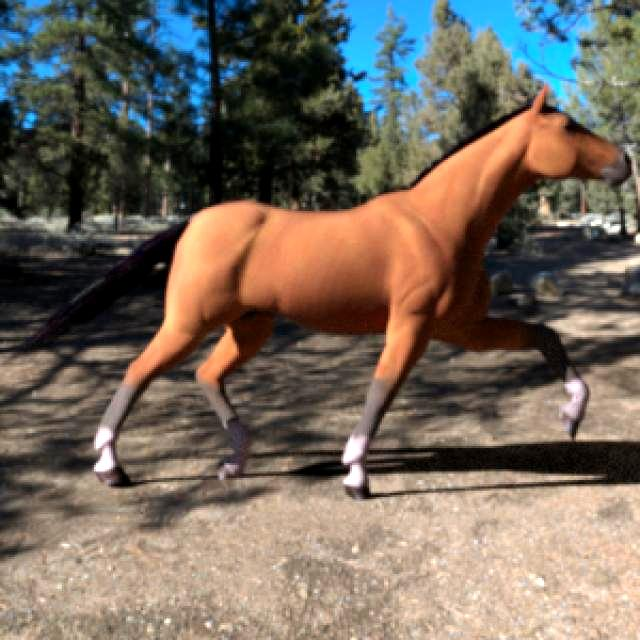horse: (19, 86, 630, 498)
